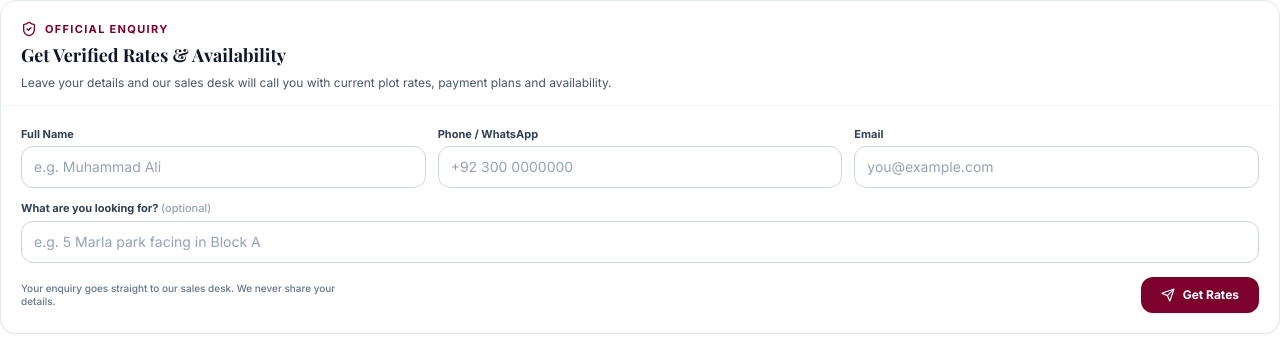
Test: QuickLeadForm › sends the entered details and reports success in place
Type "Ali Raza" into the field labelled "Full Name".
click(223, 167); type("Ali Raza")  # box x1=21 y1=146 x2=426 y2=188
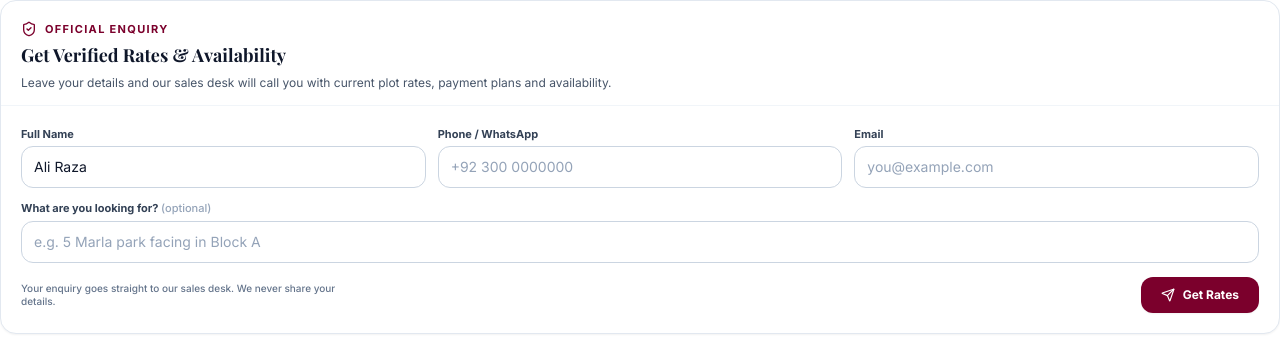
Type "0300-1234567" into the field labelled "Phone / WhatsApp".
click(640, 167); type("0300-1234567")  # box x1=438 y1=146 x2=842 y2=188
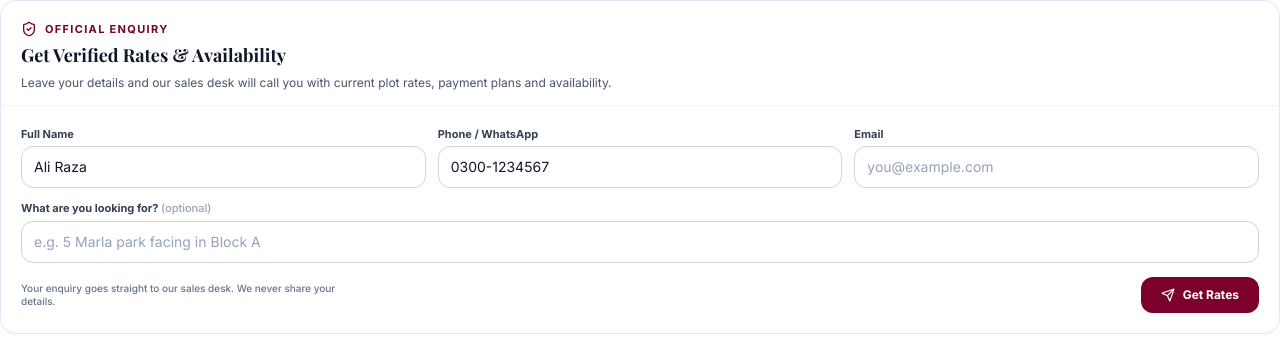
Type "ali@example.com" into the field labelled "Email".
click(1057, 167); type("ali@example.com")  # box x1=854 y1=146 x2=1259 y2=188
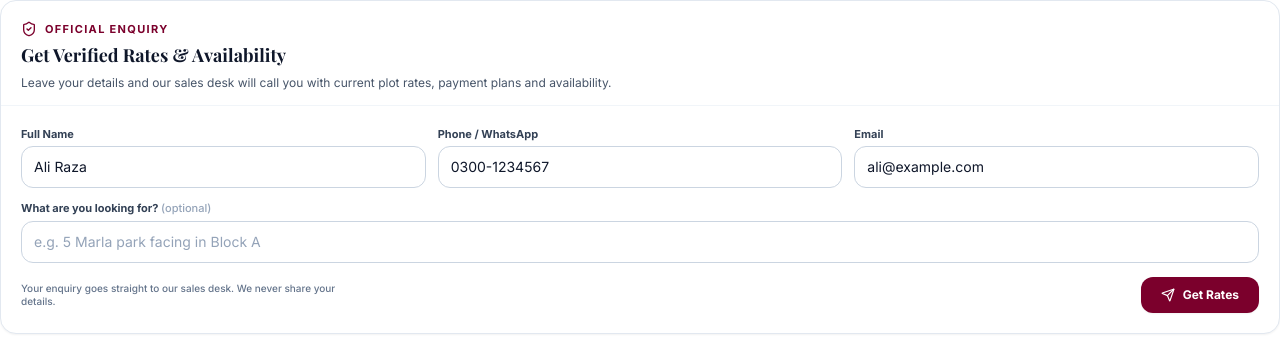
Type "5 Marla park facing" into the field labelled "What are you looking for? (optional)".
click(640, 242); type("5 Marla park facing")  # box x1=21 y1=220 x2=1259 y2=262
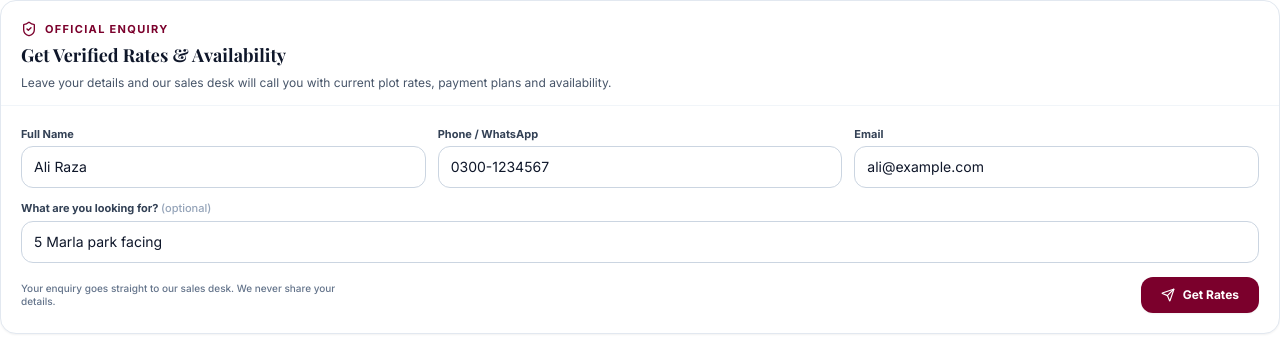
Click the button "Get Rates".
click(1200, 294)  # box x1=1141 y1=276 x2=1259 y2=312
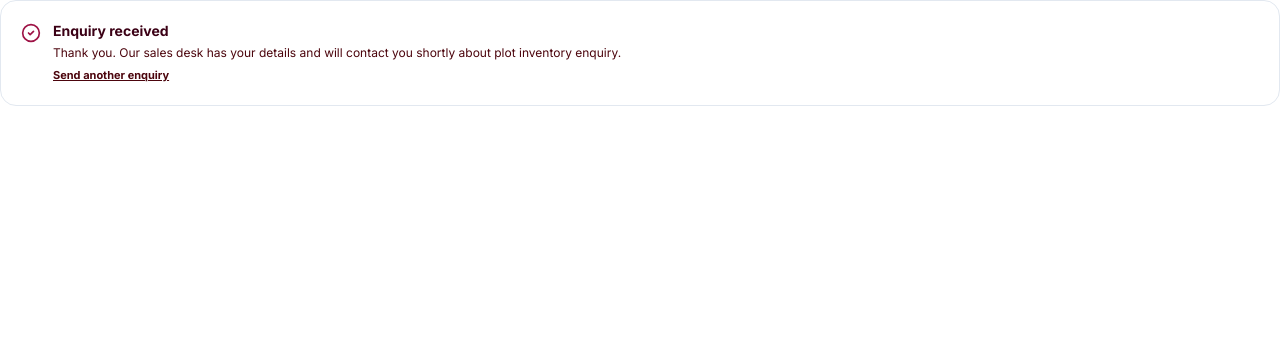
Now the text "Enquiry received" is shown, box x1=53 y1=22 x2=169 y2=39
